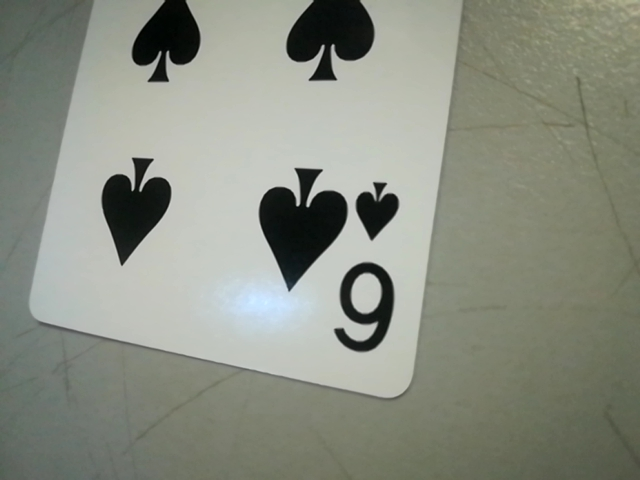ht 6: (330, 161, 415, 370)
